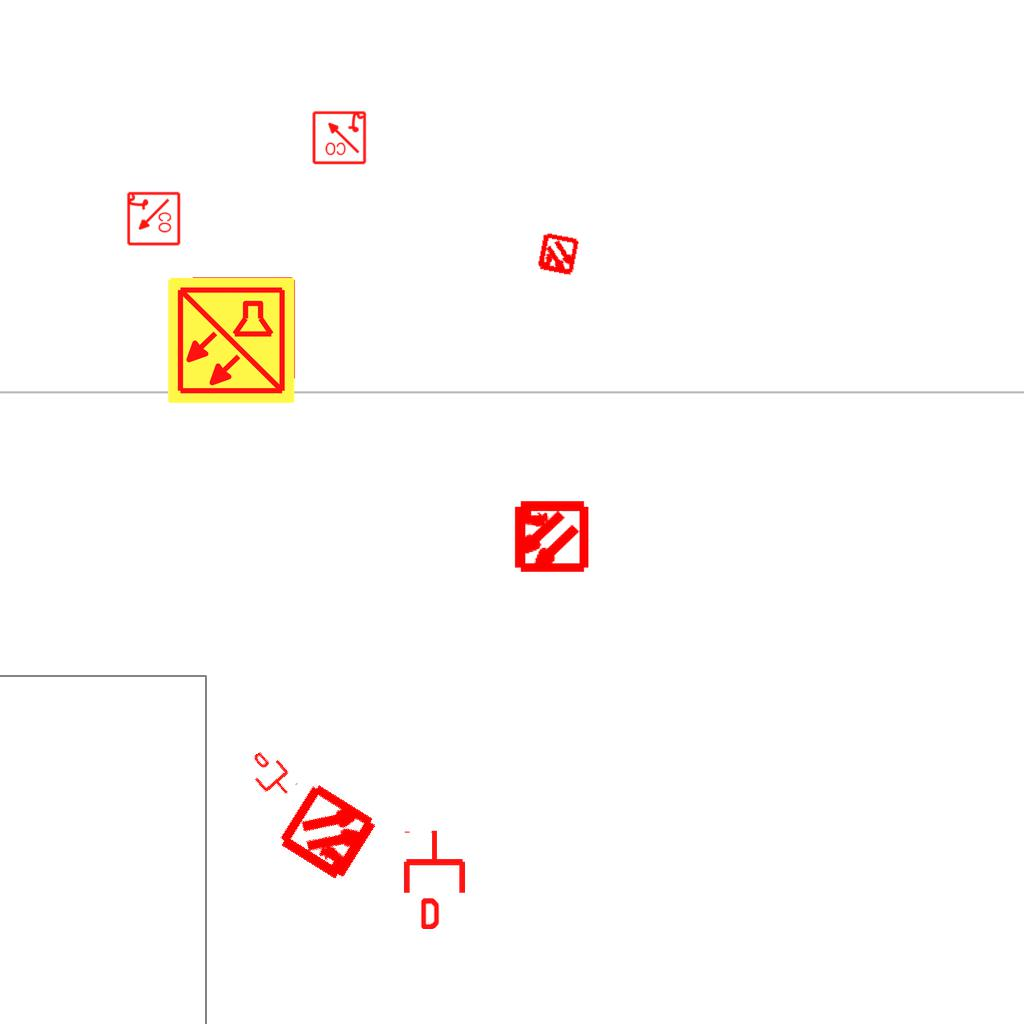Datenanschluss_einfach: (400, 829, 469, 929), (241, 744, 301, 806)
OKW_Multisensormelder_(Kombination_optischer_Rauch-Kahlenmonoxid_Waerme-Melder): (165, 274, 297, 406)
OT_Multisensormelder_(Kombination_RMO_WMD): (251, 755, 408, 912), (493, 480, 606, 593), (525, 222, 591, 288)
ROA_Rauchmelder_optisch_mit_Signalgeber_(Sockelsirene): (125, 191, 181, 247), (311, 109, 367, 165)
